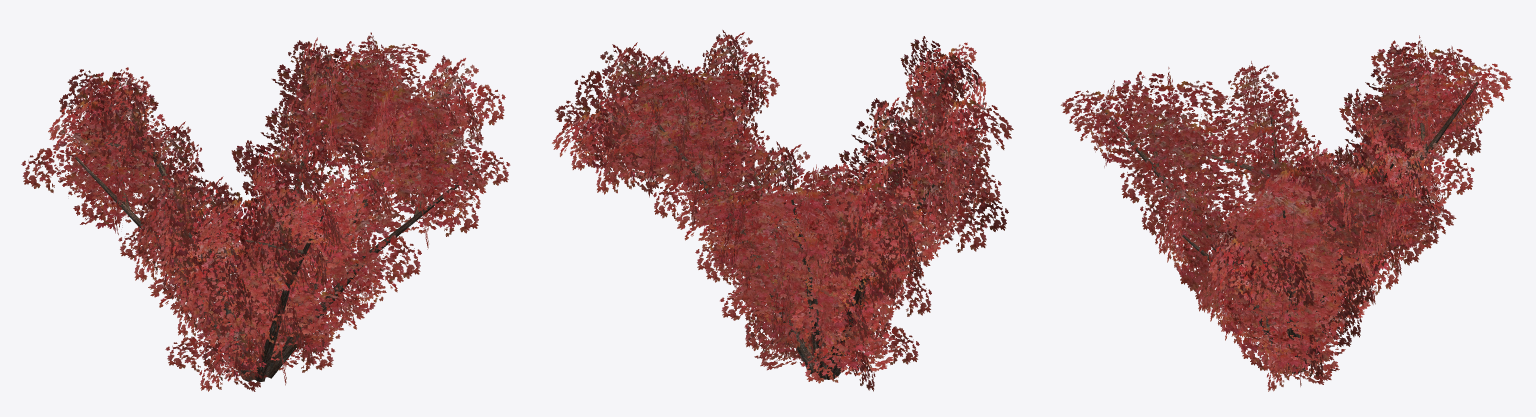
File: bush_3d_06_red_lod0.glb
3 renders of one model, left to right at view 1: azimuth 30°, elevation 25°; view 2: azimuth 150°, elevation 25°; view 3: azimuth 270°, elevation 25°, orthographic. The views are drawn at different scales.
Visible parts, largest first — view 1: foliage_cards, wood_geometry; view 2: foliage_cards, wood_geometry; view 3: foliage_cards, wood_geometry.
Boxes of the visible parts, bbox=[...] form: foliage_cards: bbox=[21, 32, 510, 391]; wood_geometry: bbox=[75, 58, 479, 382]; foliage_cards: bbox=[552, 30, 1013, 391]; wood_geometry: bbox=[628, 67, 979, 379]; foliage_cards: bbox=[1060, 35, 1512, 391]; wood_geometry: bbox=[1101, 82, 1478, 373].
Size of the model in its own units: 3.15 by 1.95 by 2.94.
2 materials, 2 textured.
